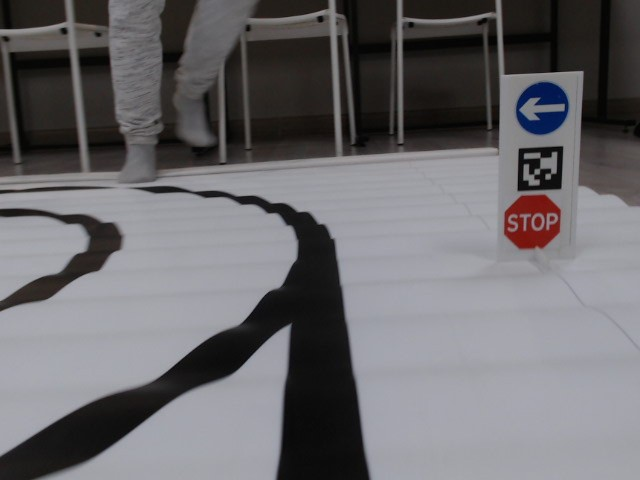Stop: (503, 195, 560, 250)
